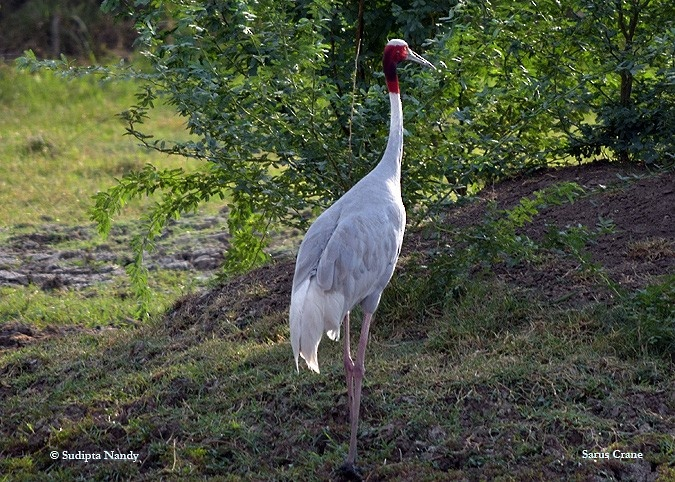crane: (287, 34, 443, 454)
